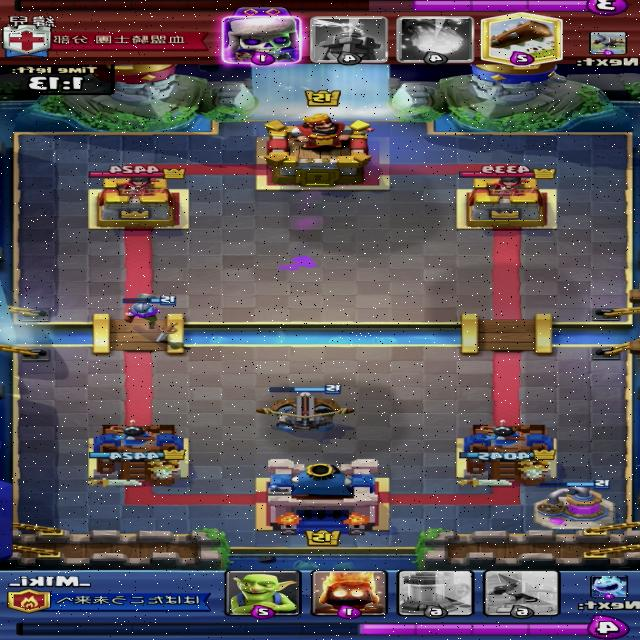Player-ElixirPump: (532, 479, 617, 532)
Player-Musketeer: (124, 292, 176, 330)
Player-XBow: (253, 385, 356, 431)
